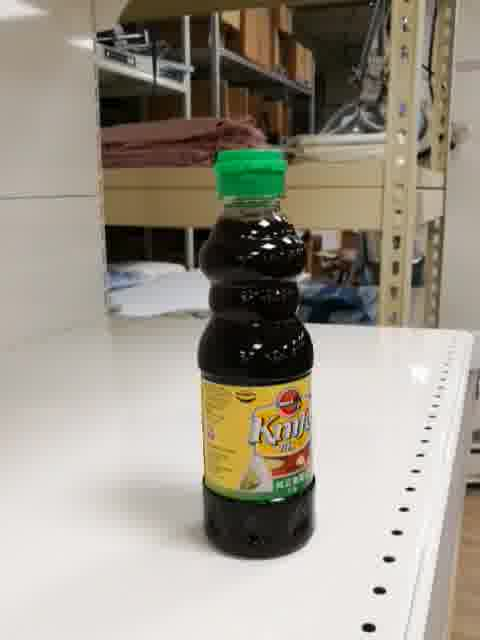cookingoil: (195, 147, 317, 561)
